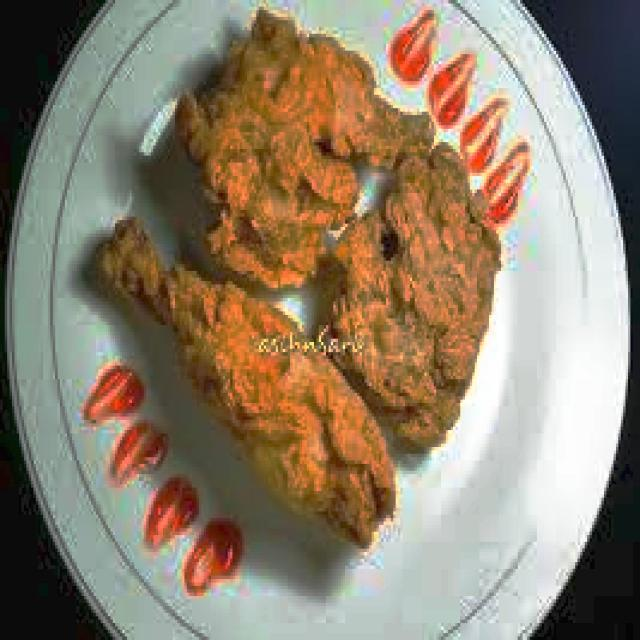fried_chicken: (100, 220, 396, 549), (177, 7, 434, 291), (319, 149, 506, 450)
